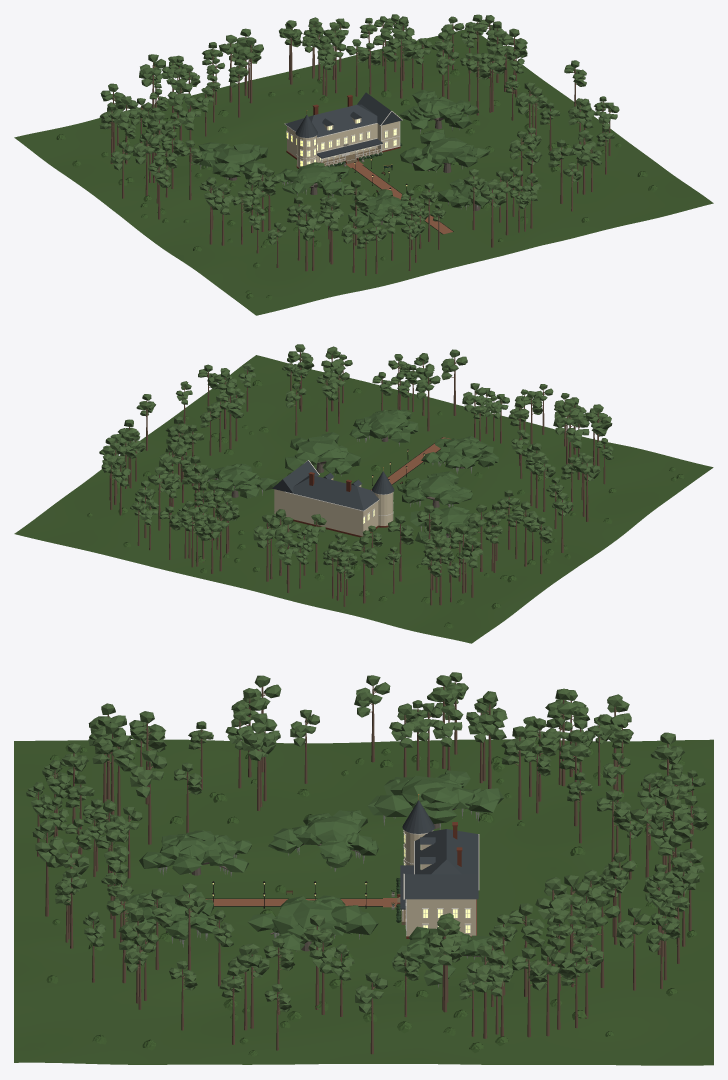
The model's file is clubhouse_exterior.glb.
The picture shows the model from 3 angles, top to bottom: view 1: azimuth 30°, elevation 25°; view 2: azimuth 150°, elevation 25°; view 3: azimuth 270°, elevation 25°; orthographic projection. The views are drawn at different scales.
Visible parts, largest first — view 1: Grounds-col, Clubhouse, Oak2_Canopy, Oak3_Canopy, Oak4_Canopy, Oak1_Canopy, Oak5_Canopy, Oak6_Canopy, BrickWalk-col, Pine119-col, Pine127-col, Pine43-col (+13 smaller); view 2: Grounds-col, Clubhouse, Oak2_Canopy, Oak5_Canopy, Oak1_Canopy, Oak6_Canopy, Oak4_Canopy, Oak3_Canopy, Pine29-col, Pine62-col, Pine32-col, Pine64-col (+9 smaller); view 3: Grounds-col, Clubhouse, Oak3_Canopy, Oak2_Canopy, Oak1_Canopy, Oak5_Canopy, Oak4_Canopy, Oak6_Canopy, Pine37-col, Pine32-col, BrickWalk-col, Pine122-col (+59 smaller).
Boxes of the visible parts, x1,y1,x2,y2 form: Grounds-col: (14, 29, 713, 315); Clubhouse: (284, 92, 402, 168); Oak2_Canopy: (400, 129, 490, 172); Oak3_Canopy: (198, 142, 267, 180); Oak4_Canopy: (399, 89, 479, 133); Oak1_Canopy: (274, 162, 349, 196); Oak5_Canopy: (348, 189, 411, 225); Oak6_Canopy: (438, 179, 506, 209); BrickWalk-col: (346, 161, 453, 234); Pine119-col: (388, 31, 415, 98); Pine127-col: (133, 133, 159, 195); Pine43-col: (320, 197, 343, 264); Grounds-col: (14, 355, 713, 643); Clubhouse: (272, 460, 394, 537); Oak2_Canopy: (285, 432, 360, 476); Oak5_Canopy: (421, 436, 498, 473); Oak1_Canopy: (396, 471, 472, 507); Oak6_Canopy: (349, 409, 418, 446); Oak4_Canopy: (202, 463, 277, 498); Oak3_Canopy: (410, 506, 484, 545); Pine29-col: (253, 515, 279, 581); Pine62-col: (351, 536, 377, 603); Pine32-col: (467, 504, 494, 571); Pine64-col: (388, 515, 413, 581); Grounds-col: (14, 739, 713, 1065); Clubhouse: (397, 794, 479, 938); Oak3_Canopy: (367, 770, 503, 829); Oak2_Canopy: (248, 895, 378, 951); Oak1_Canopy: (268, 810, 378, 871); Oak5_Canopy: (139, 830, 251, 876); Oak4_Canopy: (391, 926, 496, 987); Oak6_Canopy: (125, 890, 218, 947); Pine37-col: (130, 750, 167, 844); Pine32-col: (474, 691, 507, 788); BrickWalk-col: (122, 898, 397, 907); Pine122-col: (466, 945, 501, 1038).
Size of what is drawn, in the model's own units: 180 by 26.04 by 165.
Materials: 24 (1 with a texture image).
